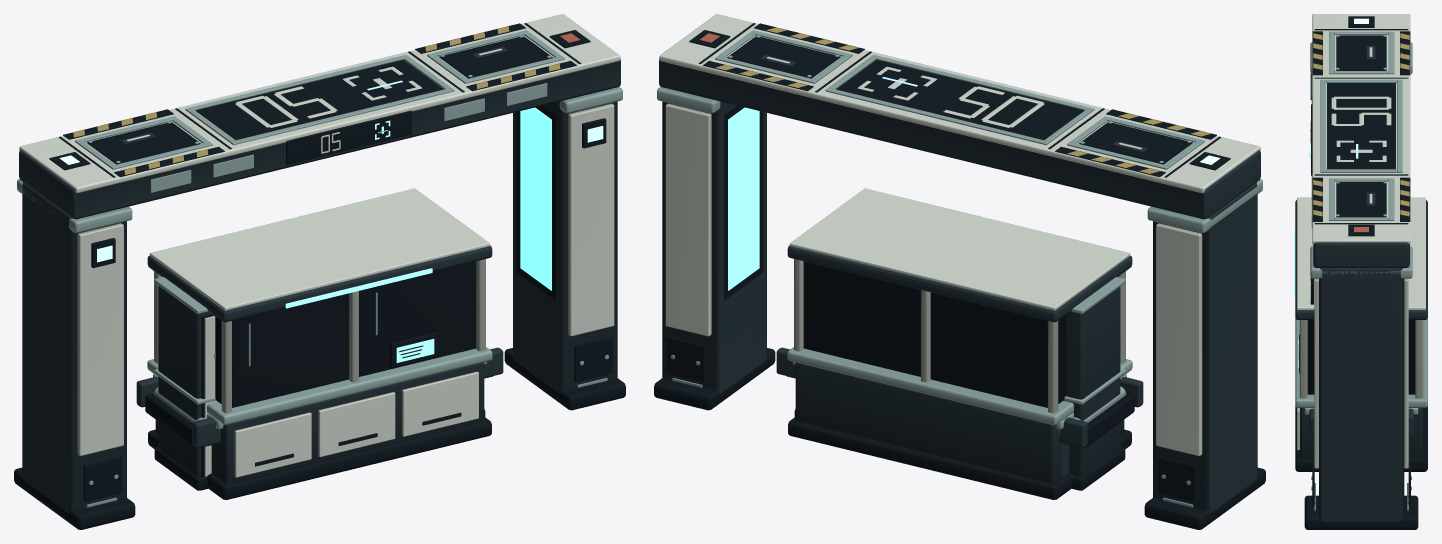
Rendered from security.glb.
The picture shows the model from 3 angles, left to right: view 1: azimuth 30°, elevation 25°; view 2: azimuth 150°, elevation 25°; view 3: azimuth 270°, elevation 25°; orthographic projection. The views are drawn at different scales.
Visible parts, largest first — view 1: security-scanner-gate--e9-body, security-scanner-gate--e9-ceramic, security-guard-booth--e9-ceramic, security-scanner-gate--e9-dark, security-guard-booth--e9-dark, security-scanner-gate--e9-trim, security-guard-booth--e9-body, security-lockers-tall--e9-body, security-scanner-gate--e9-cyan, security-guard-booth--e9-trim, security-baggage-conveyor--e9-body, security-guard-booth--e9-cyan (+3 smaller); view 2: security-scanner-gate--e9-body, security-scanner-gate--e9-ceramic, security-guard-booth--e9-dark, security-scanner-gate--e9-dark, security-guard-booth--e9-ceramic, security-guard-booth--e9-body, security-scanner-gate--e9-trim, security-scanner-gate--e9-cyan, security-lockers-tall--e9-body, security-guard-booth--e9-trim, security-lockers-low--e9-body, security-baggage-conveyor--e9-body (+2 smaller); view 3: security-scanner-gate--e9-body, security-scanner-gate--e9-dark, security-scanner-gate--e9-ceramic, security-guard-booth--e9-ceramic, security-scanner-gate--e9-trim, security-guard-booth--e9-dark, security-guard-booth--e9-body, security-guard-booth--e9-trim, security-baggage-conveyor--e9-body.
Part boxes in pixels (x1,y1,x2,y2): security-scanner-gate--e9-body: (19, 47, 620, 513); security-scanner-gate--e9-ceramic: (19, 14, 620, 455); security-guard-booth--e9-ceramic: (149, 188, 490, 477); security-scanner-gate--e9-dark: (14, 23, 625, 529); security-guard-booth--e9-dark: (148, 261, 491, 499); security-scanner-gate--e9-trim: (17, 30, 622, 507); security-guard-booth--e9-body: (147, 246, 492, 483); security-lockers-tall--e9-body: (158, 285, 212, 475); security-scanner-gate--e9-cyan: (367, 80, 551, 290); security-guard-booth--e9-trim: (147, 292, 492, 425); security-baggage-conveyor--e9-body: (136, 347, 503, 447); security-guard-booth--e9-cyan: (285, 268, 434, 362); security-scanner-gate--e9-body: (659, 55, 1260, 512); security-scanner-gate--e9-ceramic: (659, 14, 1260, 455); security-guard-booth--e9-dark: (788, 261, 1131, 499); security-scanner-gate--e9-dark: (654, 23, 1265, 529); security-guard-booth--e9-ceramic: (789, 188, 1130, 413); security-guard-booth--e9-body: (787, 246, 1132, 483); security-scanner-gate--e9-trim: (657, 30, 1262, 507); security-scanner-gate--e9-cyan: (728, 77, 917, 290); security-lockers-tall--e9-body: (1064, 286, 1120, 476); security-guard-booth--e9-trim: (787, 347, 1132, 425); security-lockers-low--e9-body: (1069, 377, 1120, 476); security-baggage-conveyor--e9-body: (776, 347, 1143, 447); security-scanner-gate--e9-body: (1313, 46, 1409, 521); security-scanner-gate--e9-dark: (1304, 16, 1418, 529); security-scanner-gate--e9-ceramic: (1309, 14, 1410, 468); security-guard-booth--e9-ceramic: (1297, 197, 1425, 450); security-scanner-gate--e9-trim: (1310, 31, 1412, 510); security-guard-booth--e9-dark: (1295, 320, 1427, 471); security-guard-booth--e9-body: (1295, 200, 1427, 458); security-guard-booth--e9-trim: (1295, 318, 1427, 407); security-baggage-conveyor--e9-body: (1309, 408, 1413, 436).
Size of the model in its own units: 5.7 by 3.4 by 1.41.
